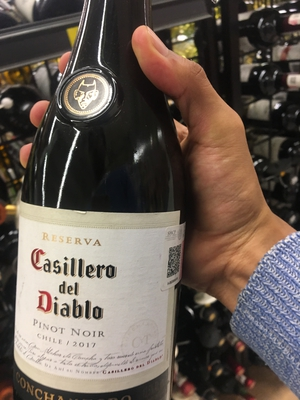casillero del diablo pinot noir: (13, 6, 193, 400)
